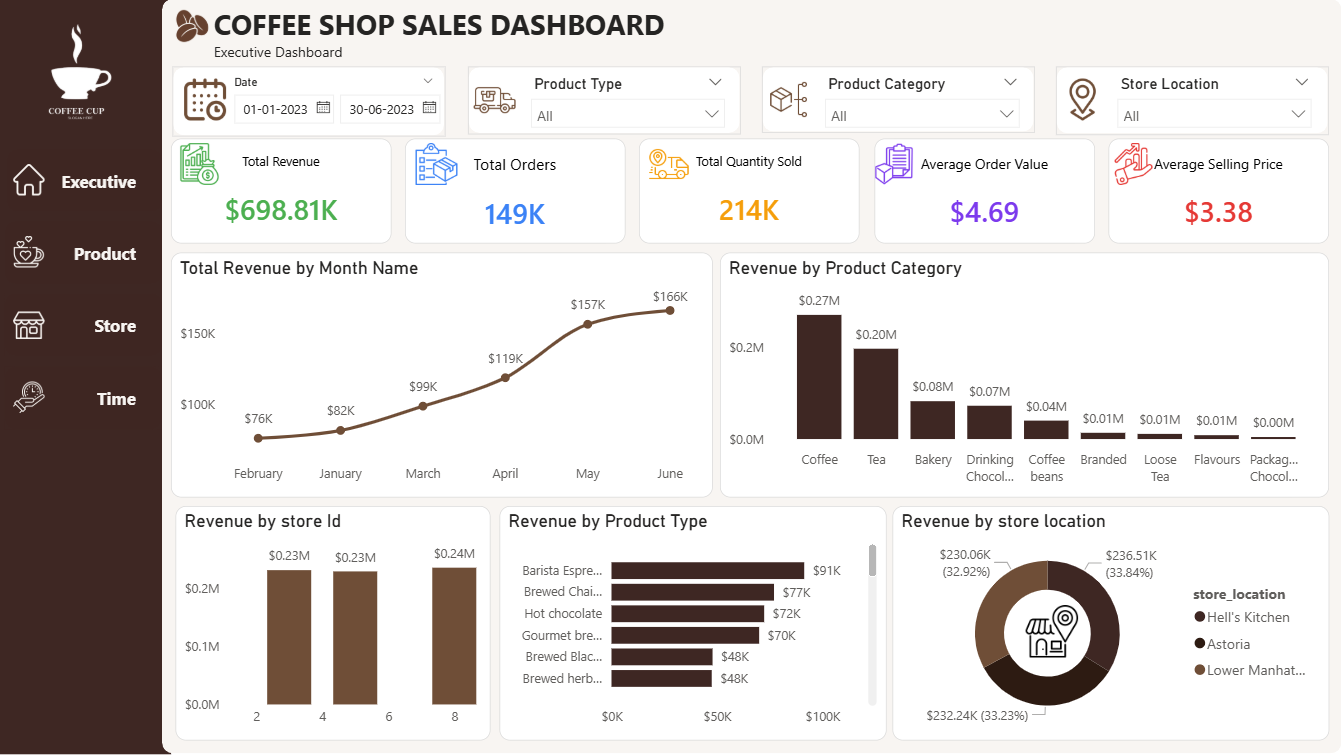

This screenshot's page, from the dashboard's own definition file:
{"tool":"powerbi","page":{"name":"Executive","canvas":[1280,720],"ordinal":0},"visuals":[{"type":"shape","box":[0,0,165.8,719.5],"z":0},{"type":"shape","box":[156.7,0,1123.3,718.3],"z":1000},{"type":"cardVisual","title":"Total Revenue","fields":{"Data":["all measures.Total Revenue"]},"box":[166,133.3,210,100],"z":2000,"group":"g1"},{"type":"cardVisual","title":"Total Revenue","fields":{"Data":["all measures.Total Orders"]},"box":[389,133.3,210,100],"z":2000,"group":"g4"},{"type":"cardVisual","title":"Total Revenue","fields":{"Data":["all measures.Total Quantity Sold"]},"box":[612,133.3,210,100],"z":2000,"group":"g7"},{"type":"cardVisual","title":"Total Revenue","fields":{"Data":["all measures.Average Order Value"]},"box":[835,133.3,210,100],"z":2000,"group":"g5"},{"type":"cardVisual","title":"Total Revenue","fields":{"Data":["all measures.Average Selling Price"]},"box":[1058,133.3,210,100],"z":2000,"group":"g6"},{"type":"lineChart","fields":{"Category":["Date_Table.Month Name"],"Y":["all measures.Total Revenue"]},"box":[166,241,516,233],"z":2000},{"type":"barChart","title":"Revenue by Product Type","fields":{"Category":["ProductTable.product_type"],"Y":["all measures.Total Revenue"]},"box":[478.6,482.1,368.6,223.6],"z":3000},{"type":"textbox","box":[200.9,0,453.6,70],"z":4000},{"type":"image","box":[0,18.5,139.2,103.1],"z":5000},{"type":"image","box":[166.1,10,40.9,31.3],"z":6000},{"type":"actionButton","box":[6.5,280.3,150.3,60],"z":7000},{"type":"group","id":"g1","title":"Group 5","box":[166,133.3,210,100],"z":8000},{"type":"image","box":[10,295.3,40,30],"z":9000},{"type":"actionButton","box":[6.7,349.3,150,60],"z":10000},{"type":"image","box":[10,364.3,40,30],"z":11000},{"type":"group","id":"g2","title":"Group 6","box":[6.5,142.4,150.3,60],"z":12000},{"type":"group","id":"g3","title":"Group 7","box":[6.5,211.3,150.3,60],"z":13000},{"type":"donutChart","title":"Revenue by store location","fields":{"Y":["all measures.Total Revenue"],"Category":["Storetable.store_location"]},"box":[852.1,482.1,415.7,223.6],"z":14000},{"type":"clusteredColumnChart","title":"Revenue by Product Category","fields":{"Category":["ProductTable.product_category"],"Y":["all measures.Total Revenue"]},"box":[689,241,580,233],"z":15000},{"type":"group","id":"g4","title":"Group 5","box":[389,133.3,210,100],"z":16000},{"type":"actionButton","box":[6.5,142.4,150.3,60],"z":16000,"group":"g2"},{"type":"group","id":"g5","title":"Group 5","box":[835,133.3,210,100],"z":17000},{"type":"actionButton","box":[6.5,211.3,150.3,60],"z":17000,"group":"g3"},{"type":"group","id":"g6","title":"Group 5","box":[1058,133.3,210,100],"z":18000},{"type":"group","id":"g7","title":"Group 5","box":[612,133.3,210,100],"z":19000},{"type":"image","box":[1064.2,137.4,40,40],"z":20000},{"type":"image","box":[172.2,137.2,40,40],"z":21000},{"type":"image","box":[398.3,137.2,40,40],"z":22000},{"type":"image","box":[620,137.2,40,40],"z":23000},{"type":"image","box":[834.8,137.4,40,40],"z":24000},{"type":"shape","box":[167.7,63.8,260,66.9],"z":25000},{"type":"shape","box":[448.5,63.8,260,64.6],"z":26000},{"type":"shape","box":[728.9,64.4,260,63.3],"z":27000},{"type":"image","box":[10,157.4,40,30],"z":27000,"group":"g2"},{"type":"shape","box":[1009.2,64.2,260,65],"z":28000},{"type":"image","box":[172.3,76.2,50,40],"z":29000},{"type":"image","box":[1009.2,76.2,50,40],"z":30000},{"type":"image","box":[10,226.3,40,30],"z":30000,"group":"g3"},{"type":"image","box":[448.5,76.2,50,40],"z":31000},{"type":"image","box":[729.2,76.2,50,40],"z":32000},{"type":"slicer","fields":{"Values":["Date_Table.Date"]},"box":[212.3,66.9,215.4,58.5],"z":33000},{"type":"slicer","fields":{"Values":["ProductTable.product_type"]},"box":[498.5,67.7,204.6,58.5],"z":34000},{"type":"slicer","fields":{"Values":["ProductTable.product_category"]},"box":[779.2,66.9,205.4,58.5],"z":35000},{"type":"slicer","fields":{"Values":["Storetable.store_location"]},"box":[1057.7,67.7,204.6,60],"z":36000},{"type":"clusteredColumnChart","title":"Revenue by store  Id","fields":{"Y":["all measures.Total Revenue"],"Category":["Storetable.store_id"]},"box":[170,482.2,300,223.3],"z":37000},{"type":"image","box":[974.3,577.1,60,50],"z":38000}]}

Visuals, with their boxes in screenshot pixels (x1, y1, x2, y2), scaled from the page's 1280x720 canvas onto the 1341x755 screenshot:
shape: pyautogui.locateOnScreen(0, 0, 174, 754)
shape: pyautogui.locateOnScreen(164, 0, 1340, 753)
"Total Revenue" cardVisual: pyautogui.locateOnScreen(174, 140, 394, 245)
"Total Revenue" cardVisual: pyautogui.locateOnScreen(408, 140, 628, 245)
"Total Revenue" cardVisual: pyautogui.locateOnScreen(641, 140, 861, 245)
"Total Revenue" cardVisual: pyautogui.locateOnScreen(875, 140, 1095, 245)
"Total Revenue" cardVisual: pyautogui.locateOnScreen(1108, 140, 1328, 245)
lineChart - Date_Table.Month Name x all measures.Total Revenue: pyautogui.locateOnScreen(174, 253, 715, 497)
"Revenue by Product Type" barChart: pyautogui.locateOnScreen(501, 506, 888, 740)
textbox: pyautogui.locateOnScreen(210, 0, 686, 73)
image: pyautogui.locateOnScreen(0, 19, 146, 128)
image: pyautogui.locateOnScreen(174, 10, 217, 43)
actionButton: pyautogui.locateOnScreen(7, 294, 164, 357)
"Group 5" group: pyautogui.locateOnScreen(174, 140, 394, 245)
image: pyautogui.locateOnScreen(10, 310, 52, 341)
actionButton: pyautogui.locateOnScreen(7, 366, 164, 429)
image: pyautogui.locateOnScreen(10, 382, 52, 413)
"Group 6" group: pyautogui.locateOnScreen(7, 149, 164, 212)
"Group 7" group: pyautogui.locateOnScreen(7, 222, 164, 284)
"Revenue by store location" donutChart: pyautogui.locateOnScreen(893, 506, 1328, 740)
"Revenue by Product Category" clusteredColumnChart: pyautogui.locateOnScreen(722, 253, 1329, 497)
"Group 5" group: pyautogui.locateOnScreen(408, 140, 628, 245)
actionButton: pyautogui.locateOnScreen(7, 149, 164, 212)
"Group 5" group: pyautogui.locateOnScreen(875, 140, 1095, 245)
actionButton: pyautogui.locateOnScreen(7, 222, 164, 284)
"Group 5" group: pyautogui.locateOnScreen(1108, 140, 1328, 245)
"Group 5" group: pyautogui.locateOnScreen(641, 140, 861, 245)
image: pyautogui.locateOnScreen(1115, 144, 1157, 186)
image: pyautogui.locateOnScreen(180, 144, 222, 186)
image: pyautogui.locateOnScreen(417, 144, 459, 186)
image: pyautogui.locateOnScreen(650, 144, 691, 186)
image: pyautogui.locateOnScreen(875, 144, 916, 186)
shape: pyautogui.locateOnScreen(176, 67, 448, 137)
shape: pyautogui.locateOnScreen(470, 67, 742, 135)
shape: pyautogui.locateOnScreen(764, 68, 1036, 134)
image: pyautogui.locateOnScreen(10, 165, 52, 197)
shape: pyautogui.locateOnScreen(1057, 67, 1330, 135)
image: pyautogui.locateOnScreen(181, 80, 233, 122)
image: pyautogui.locateOnScreen(1057, 80, 1110, 122)
image: pyautogui.locateOnScreen(10, 237, 52, 269)
image: pyautogui.locateOnScreen(470, 80, 522, 122)
image: pyautogui.locateOnScreen(764, 80, 816, 122)
slicer - Date_Table.Date: pyautogui.locateOnScreen(222, 70, 448, 131)
slicer - ProductTable.product_type: pyautogui.locateOnScreen(522, 71, 737, 132)
slicer - ProductTable.product_category: pyautogui.locateOnScreen(816, 70, 1032, 131)
slicer - Storetable.store_location: pyautogui.locateOnScreen(1108, 71, 1322, 134)
"Revenue by store  Id" clusteredColumnChart: pyautogui.locateOnScreen(178, 506, 492, 740)
image: pyautogui.locateOnScreen(1021, 605, 1084, 658)
